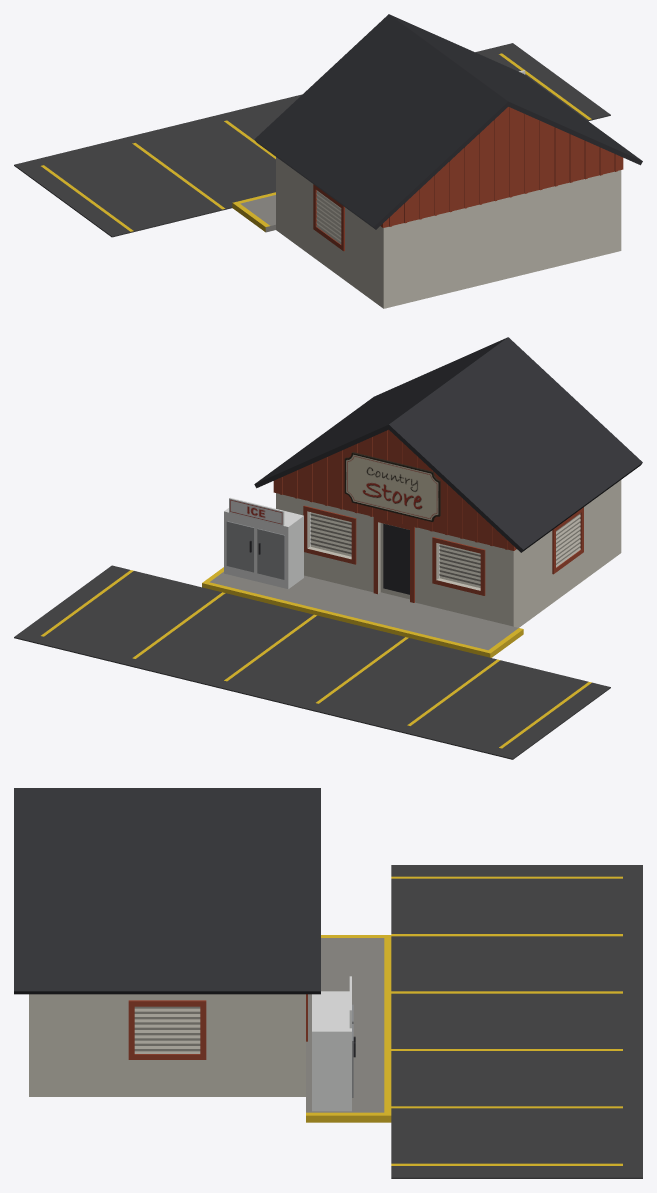
Rendered from general-store.glb.
The picture shows the model from 3 angles, top to bottom: view 1: azimuth 30°, elevation 25°; view 2: azimuth 150°, elevation 25°; view 3: azimuth 270°, elevation 25°; orthographic projection. The views are drawn at different scales.
Visible parts, largest first — view 1: GeneralStore; view 2: GeneralStore; view 3: GeneralStore.
Part boxes in pixels (x1=…): GeneralStore: x1=14, y1=14, x2=642, y2=308; GeneralStore: x1=14, y1=337, x2=642, y2=759; GeneralStore: x1=14, y1=788, x2=642, y2=1178.
Size of the model in its own units: 14.7 by 5.14 by 12.5.
7 materials, 1 textured.
